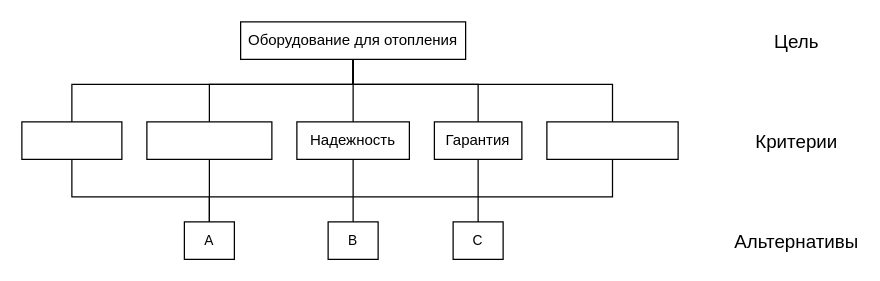
Some shapes in this 880 by 281 pixel diagram are drawn without their labels. Each missing label, with the box of its shape:
Долговечность: (546, 121, 678, 159)
Стоимость: (21, 121, 122, 159)
Эффективность: (146, 121, 272, 159)
